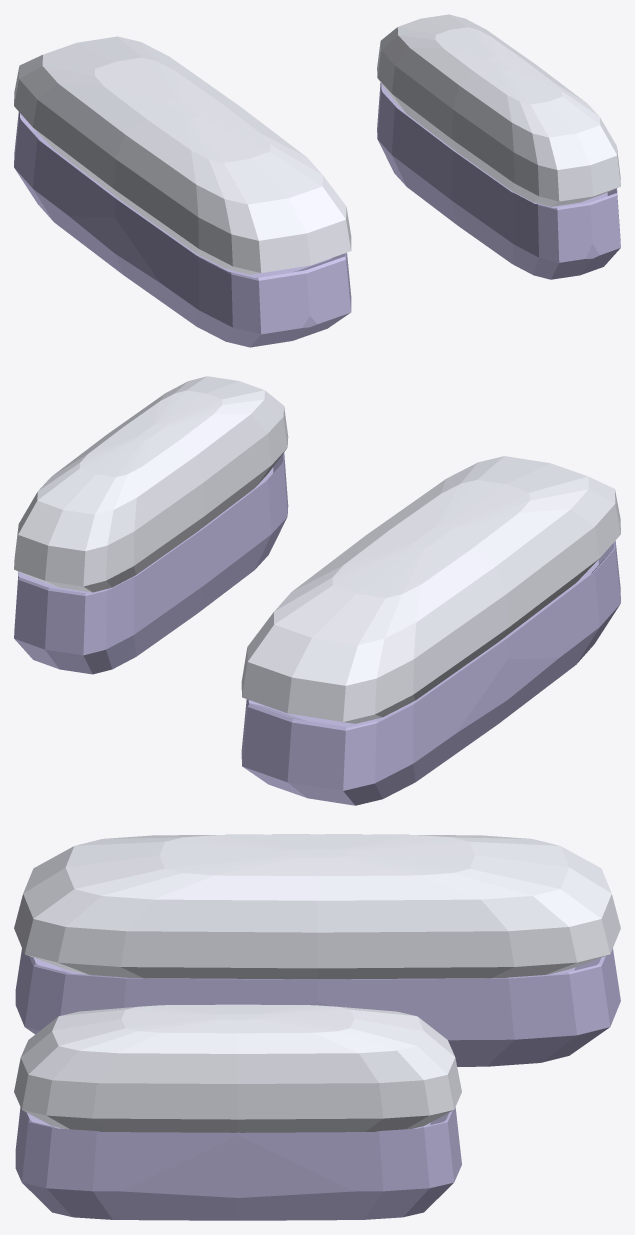
File: h02_rookery_drift.fbx
3 renders of one model, top to bottom at view 1: azimuth 30°, elevation 25°; view 2: azimuth 150°, elevation 25°; view 3: azimuth 270°, elevation 25°, orthographic. The views are drawn at different scales.
Visible parts, largest first — view 1: h02_rookery_drift__Snow, h02_rookery_drift__SnowShadow; view 2: h02_rookery_drift__Snow, h02_rookery_drift__SnowShadow; view 3: h02_rookery_drift__Snow, h02_rookery_drift__SnowShadow.
Boxes of the visible parts, x1,y1,x2,y2 form: h02_rookery_drift__Snow: (14, 14, 620, 274); h02_rookery_drift__SnowShadow: (14, 83, 620, 347); h02_rookery_drift__Snow: (14, 376, 620, 723); h02_rookery_drift__SnowShadow: (14, 452, 620, 805); h02_rookery_drift__Snow: (14, 834, 620, 1132); h02_rookery_drift__SnowShadow: (15, 948, 620, 1220).
Bounding box in the file's own units: 13.78 × 5 × 15.28.
